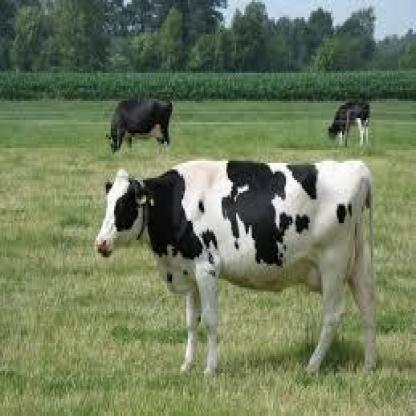cow: (95, 160, 376, 376), (105, 98, 173, 154), (327, 101, 370, 146)
